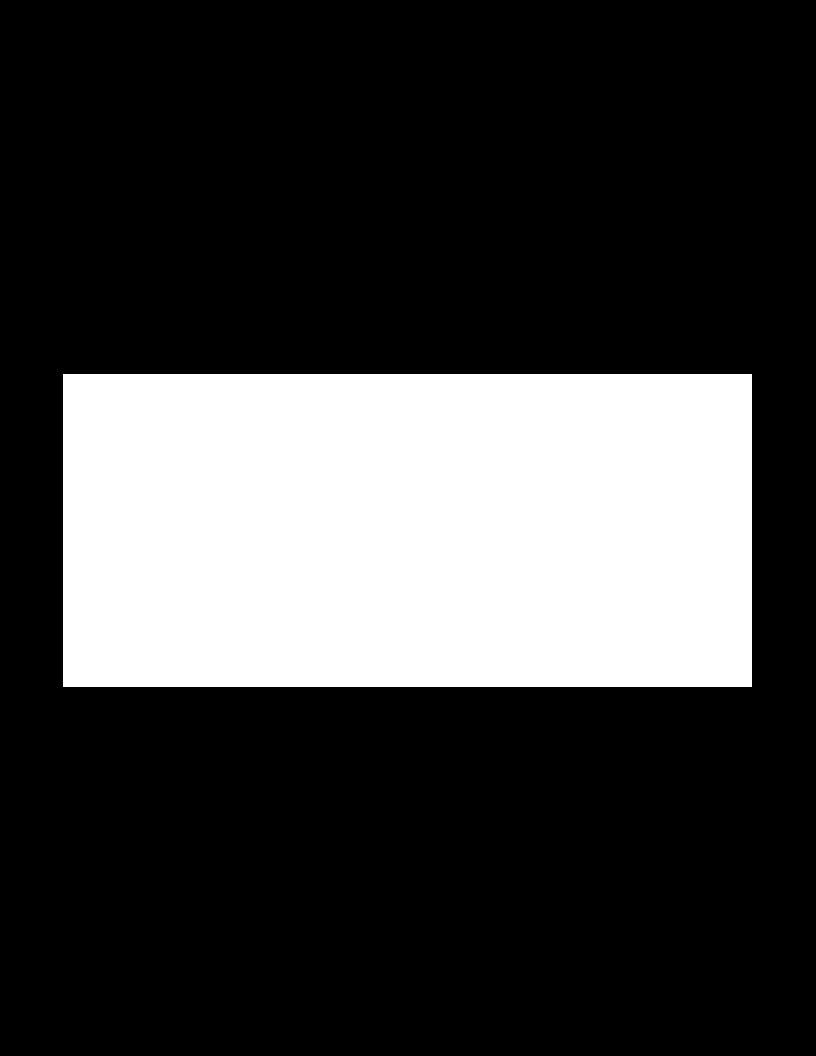table: (63, 374, 751, 686)
